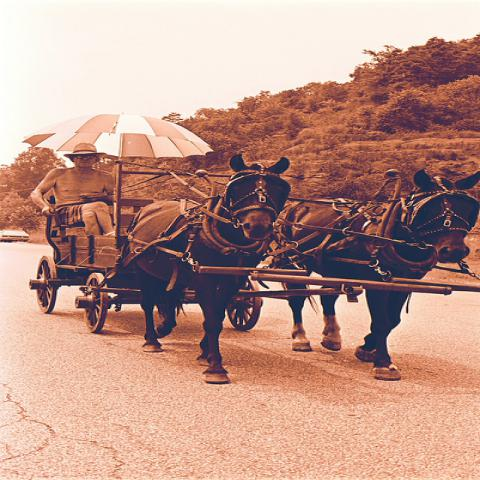car: (0, 228, 32, 244)
